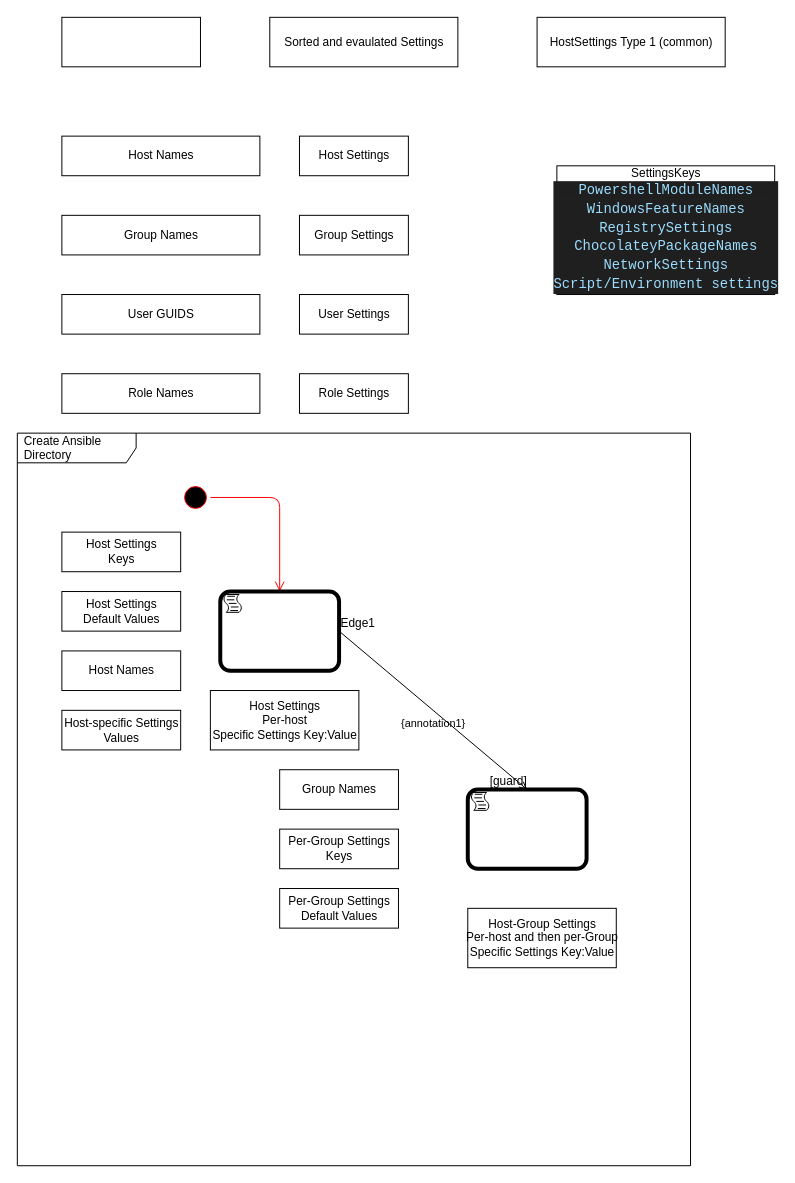
This 795x1183 diagram has some shape labels left out. Here are the shapes that lost their labels. From the top down, the centre of each, then its label:
(x=130, y=41): Settings Collections
(x=279, y=631): Create Host Settings
(x=527, y=829): Create Group Settings
